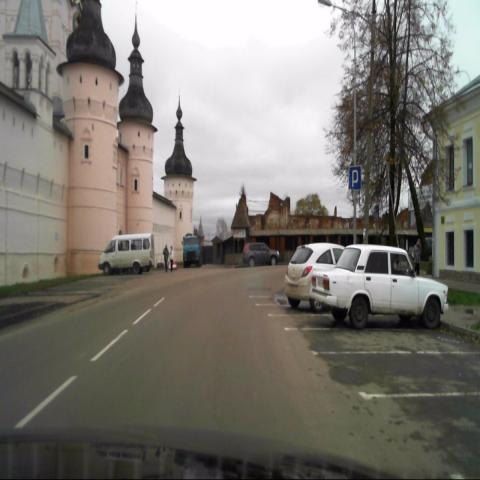6_4: (349, 166, 361, 191)
